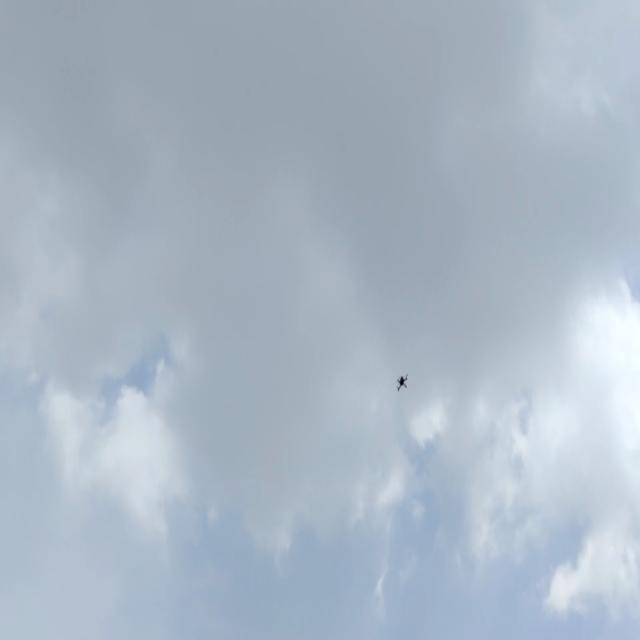drone: (393, 372, 414, 397)
